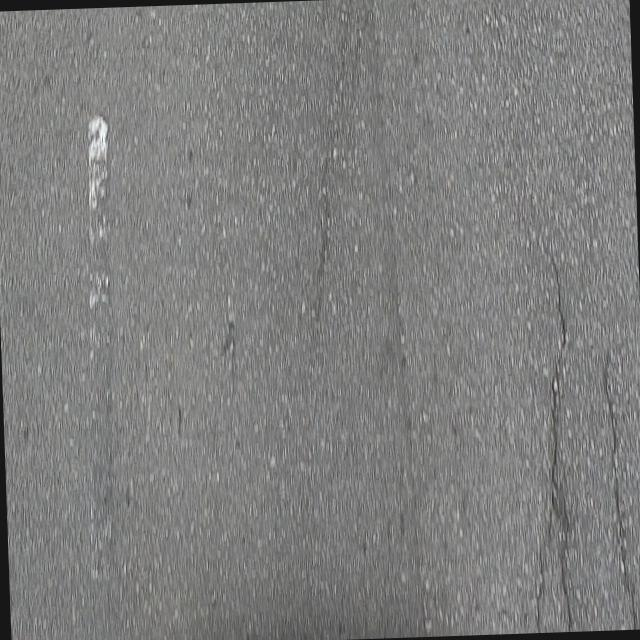Retak-Memanjang: (532, 224, 575, 629), (599, 336, 638, 629), (528, 514, 555, 633)
